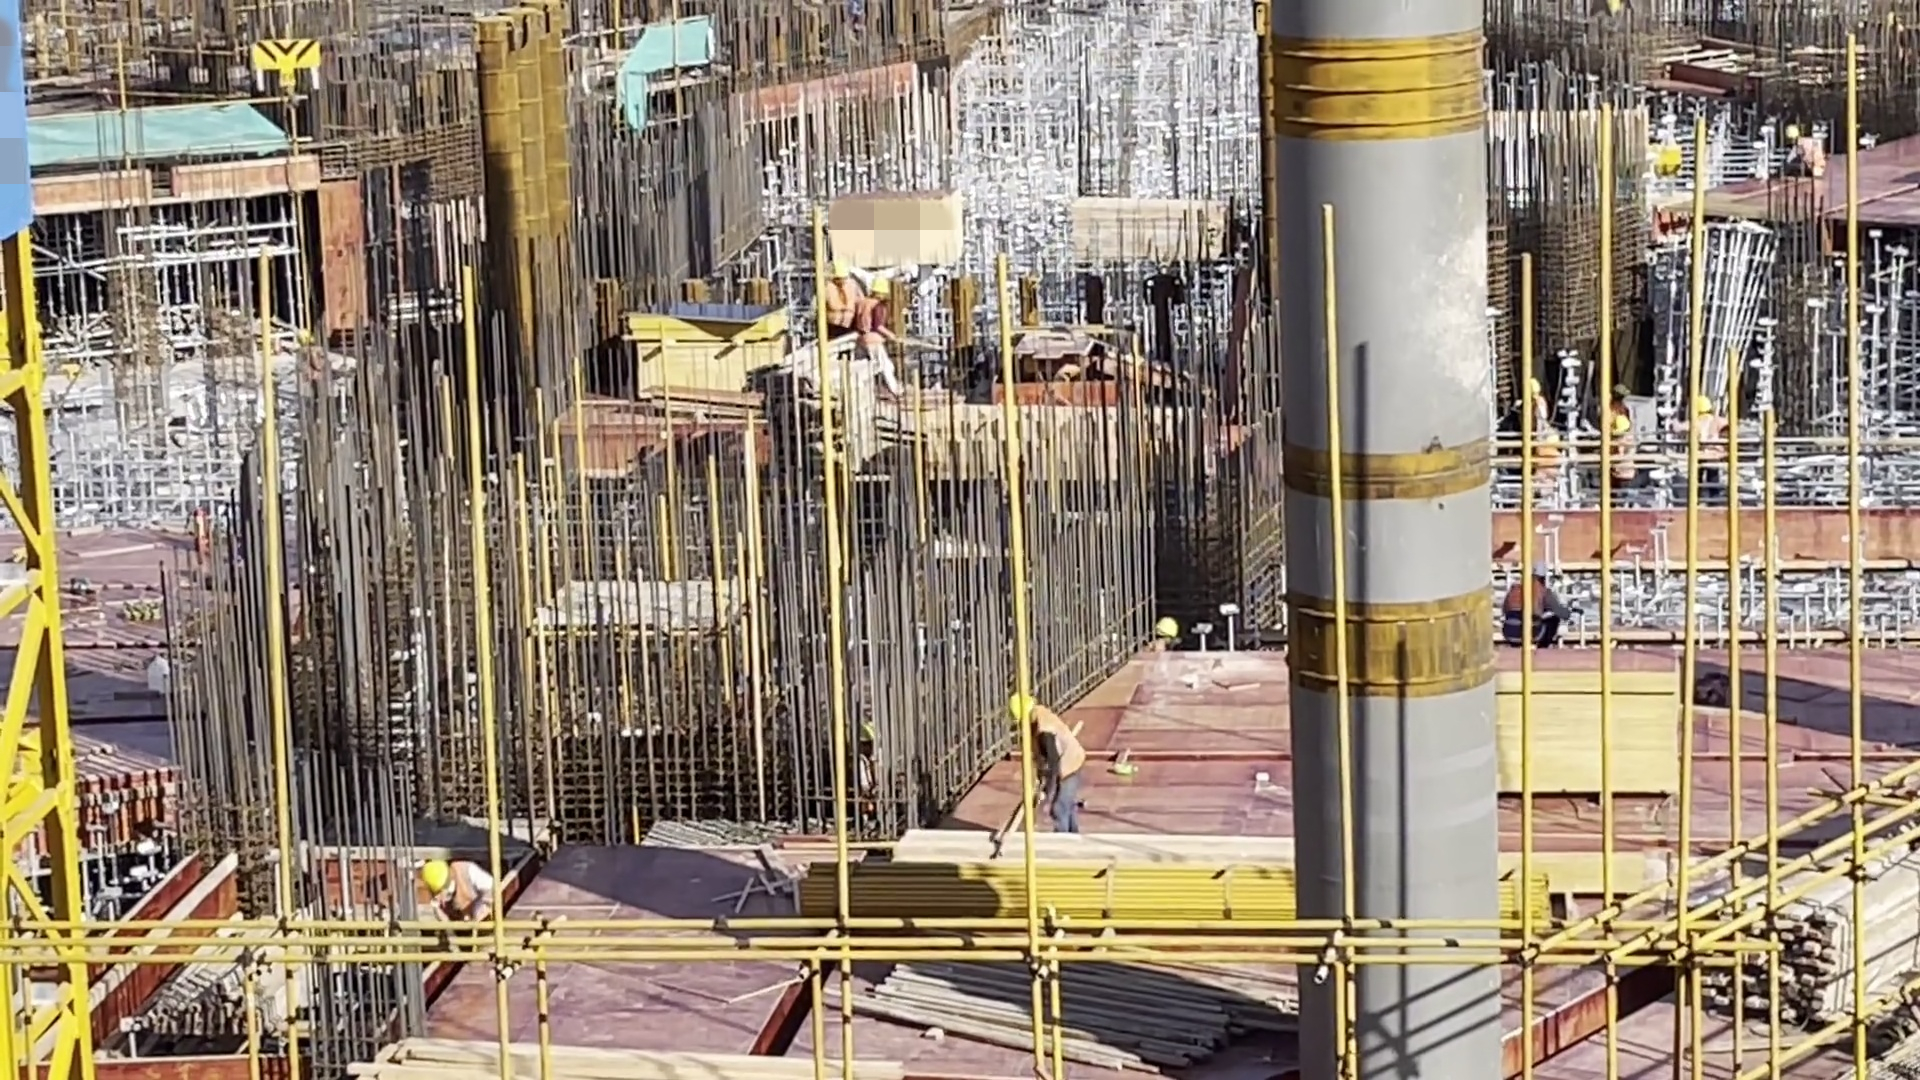helmet: (405, 849, 453, 888), (1152, 614, 1187, 656), (1010, 684, 1039, 724), (1524, 560, 1554, 587), (825, 258, 849, 284), (1689, 390, 1712, 416), (1784, 114, 1802, 142), (867, 271, 888, 297), (1525, 378, 1546, 403), (1612, 412, 1631, 438), (1609, 382, 1630, 404)
person: (1003, 693, 1095, 838), (851, 272, 910, 392), (410, 857, 501, 928), (1500, 558, 1569, 645), (1679, 392, 1732, 493), (814, 260, 860, 333), (1780, 118, 1830, 176), (1606, 416, 1642, 482), (1515, 379, 1555, 428)
vest: (1031, 709, 1080, 787), (447, 864, 489, 937), (820, 289, 848, 328)
